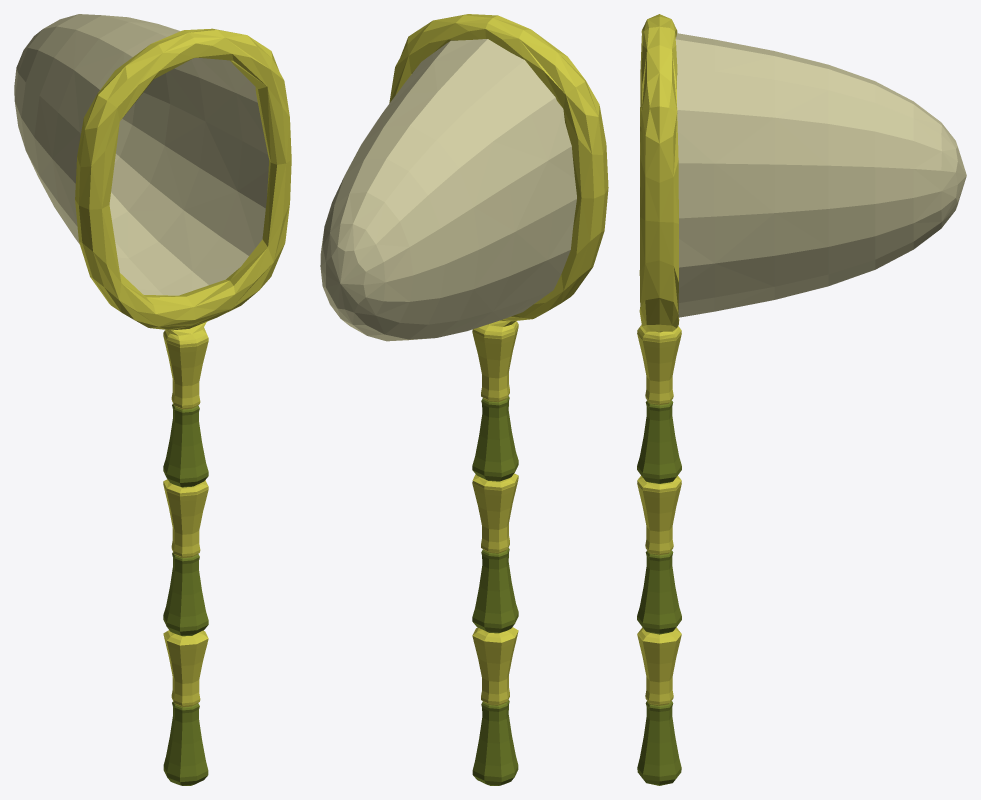
File: SBNet.obj
The picture shows the model from 3 angles, left to right: view 1: azimuth 30°, elevation 25°; view 2: azimuth 150°, elevation 25°; view 3: azimuth 270°, elevation 25°; orthographic projection.
Parts seen in each view (by area): view 1: net_Sphere.001, wood_Cube.001; view 2: net_Sphere.001, wood_Cube.001; view 3: net_Sphere.001, wood_Cube.001.
Part boxes in pixels (<box>): net_Sphere.001: <box>14,14,269,295</box>; wood_Cube.001: <box>75,28,291,785</box>; net_Sphere.001: <box>320,39,576,341</box>; wood_Cube.001: <box>389,14,608,785</box>; net_Sphere.001: <box>675,33,966,317</box>; wood_Cube.001: <box>637,14,681,785</box>.
Bounding box in the file's own units: 6.29 × 21.61 × 8.53.
